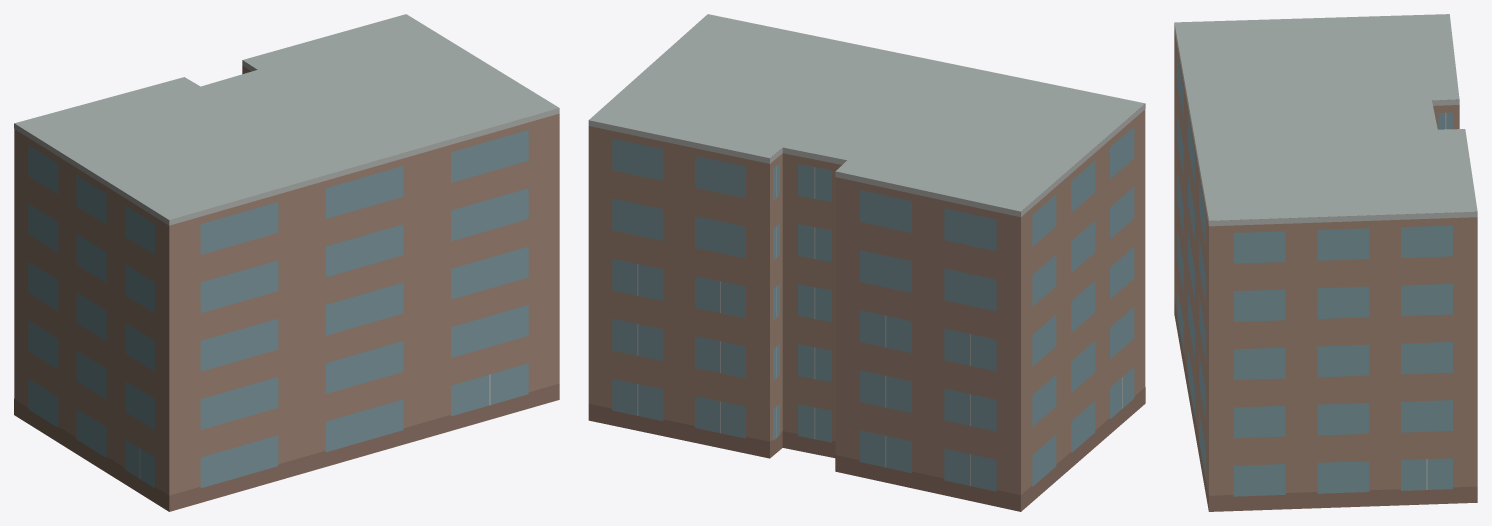
Rendered from survey-upis-32759643.glb.
3 renders of one model, left to right at view 1: azimuth 30°, elevation 25°; view 2: azimuth 150°, elevation 25°; view 3: azimuth 270°, elevation 25°, orthographic. The views are drawn at different scales.
Parts seen in each view (by area): view 1: survey-upis-32759643.tmp; view 2: survey-upis-32759643.tmp; view 3: survey-upis-32759643.tmp.
Part boxes in pixels (x1,y1,x2,y2): survey-upis-32759643.tmp: (14,14,559,511); survey-upis-32759643.tmp: (588,14,1145,511); survey-upis-32759643.tmp: (1174,14,1477,511).
Bounding box in the file's own units: 19.67 × 12.9 × 12.2.
